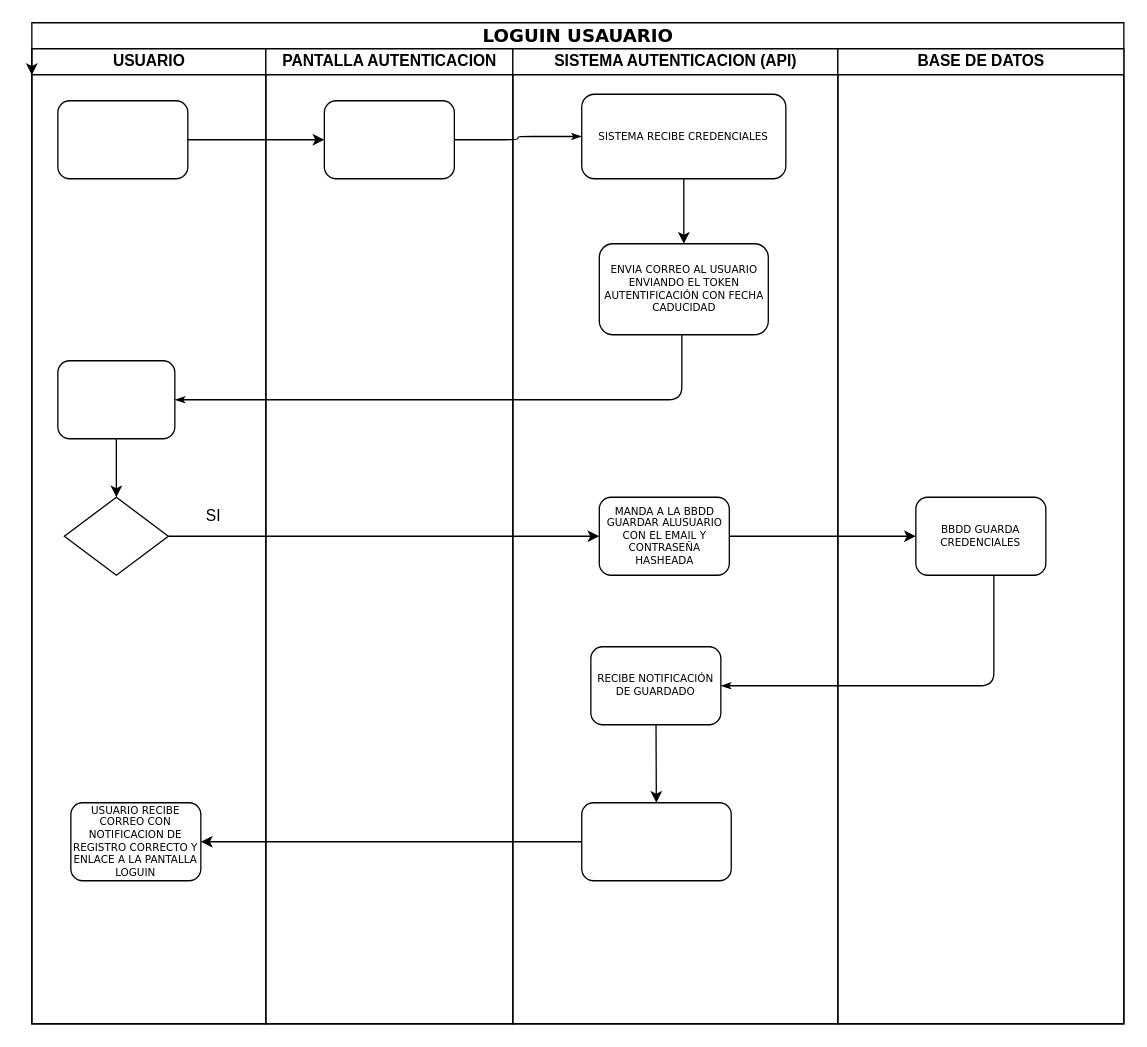
Image size: 1147x1047. Some labels were removed from this diagram. The centre of each missing label's shape, as x and y in pixels:
"ENVIA AL CORREO NOTIFICACION QUE HA QUEDADO REGISTRADO" goes at point (655, 841).
"RELLENA CAMPO DE REGISTER INTRODUCIENDO EMAIL Y CONTRASEÑA" goes at point (388, 139).
"USUARIO ENTRA EN LA WEB" goes at point (122, 139).
"USUARIO RECIBE CORREO" goes at point (116, 399).
"VALIDA EN CORREO" goes at point (115, 535).
